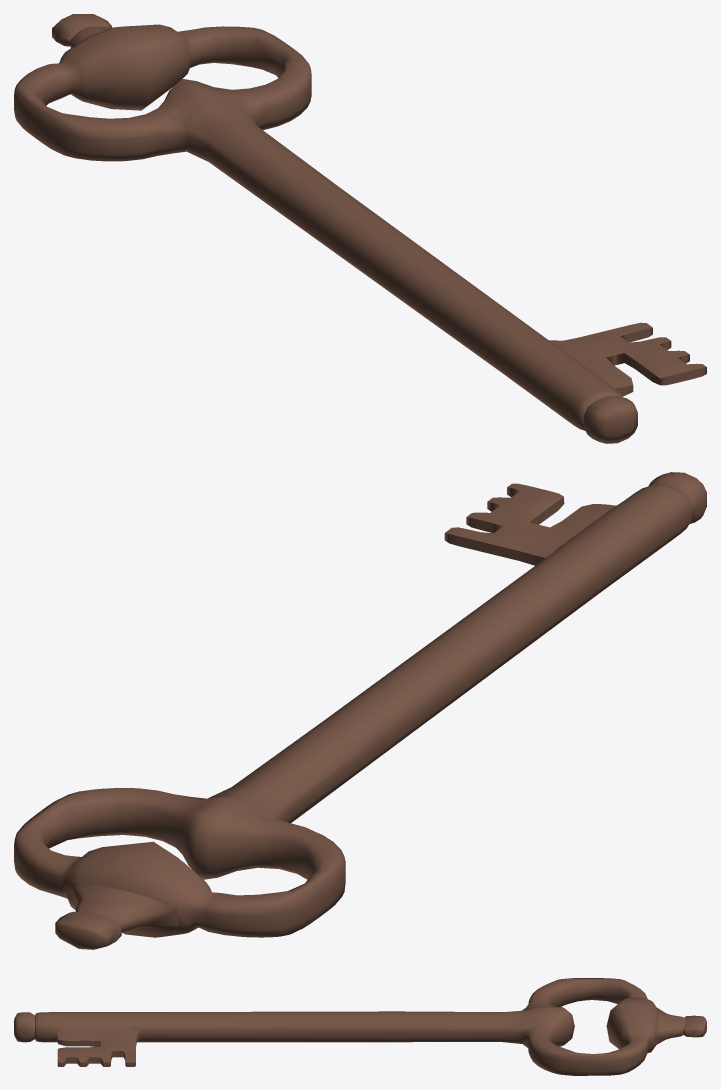
Rendered from Key2.fbx.
3 renders of one model, top to bottom at view 1: azimuth 30°, elevation 25°; view 2: azimuth 150°, elevation 25°; view 3: azimuth 270°, elevation 25°, orthographic. The views are drawn at different scales.
Visible parts, largest first — view 1: Key2; view 2: Key2; view 3: Key2.
Boxes of the visible parts, x1=… form: Key2: x1=14, y1=14, x2=706, y2=443; Key2: x1=14, y1=472, x2=706, y2=949; Key2: x1=14, y1=978, x2=706, y2=1075.
Bounding box in the file's own units: 4.21 × 1.1 × 15.37.
